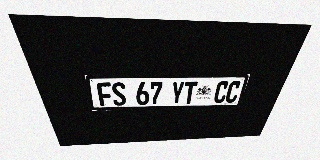6: (136, 82, 149, 105)
7: (150, 82, 163, 105)
C: (224, 81, 242, 103), (213, 81, 230, 103)
F: (96, 82, 113, 106)
S: (111, 82, 127, 106)
T: (183, 81, 198, 104)
Y: (170, 81, 185, 104)
